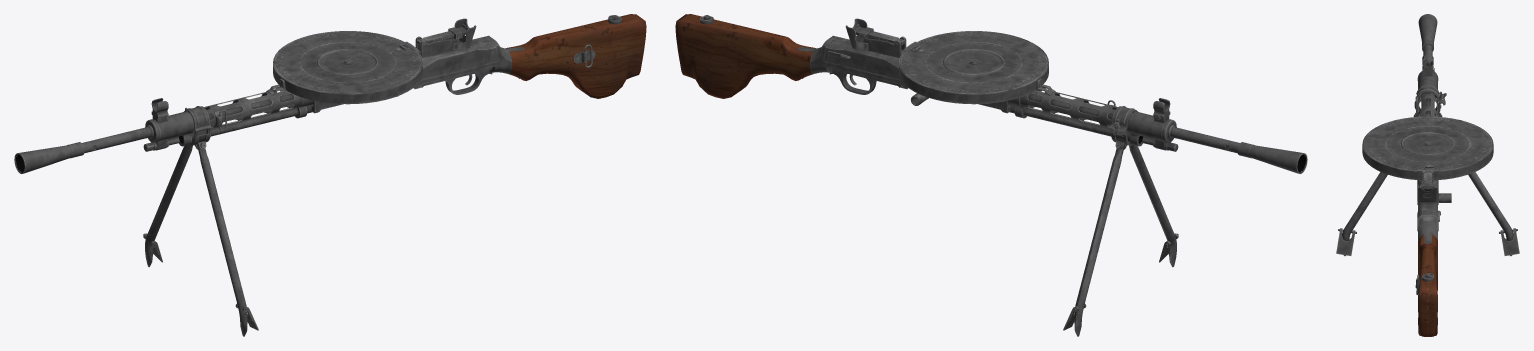
3 renders of one model, left to right at view 1: azimuth 30°, elevation 25°; view 2: azimuth 150°, elevation 25°; view 3: azimuth 270°, elevation 25°, orthographic. The views are drawn at different scales.
Visible parts, largest first — view 1: dp27; view 2: dp27; view 3: dp27.
Boxes of the visible parts, bbox=[...] form: dp27: bbox=[14, 14, 646, 336]; dp27: bbox=[675, 14, 1307, 336]; dp27: bbox=[1336, 14, 1519, 336].
Size of the model in its own units: 1.27 by 0.4136 by 0.3704.
1 material, 1 textured.
